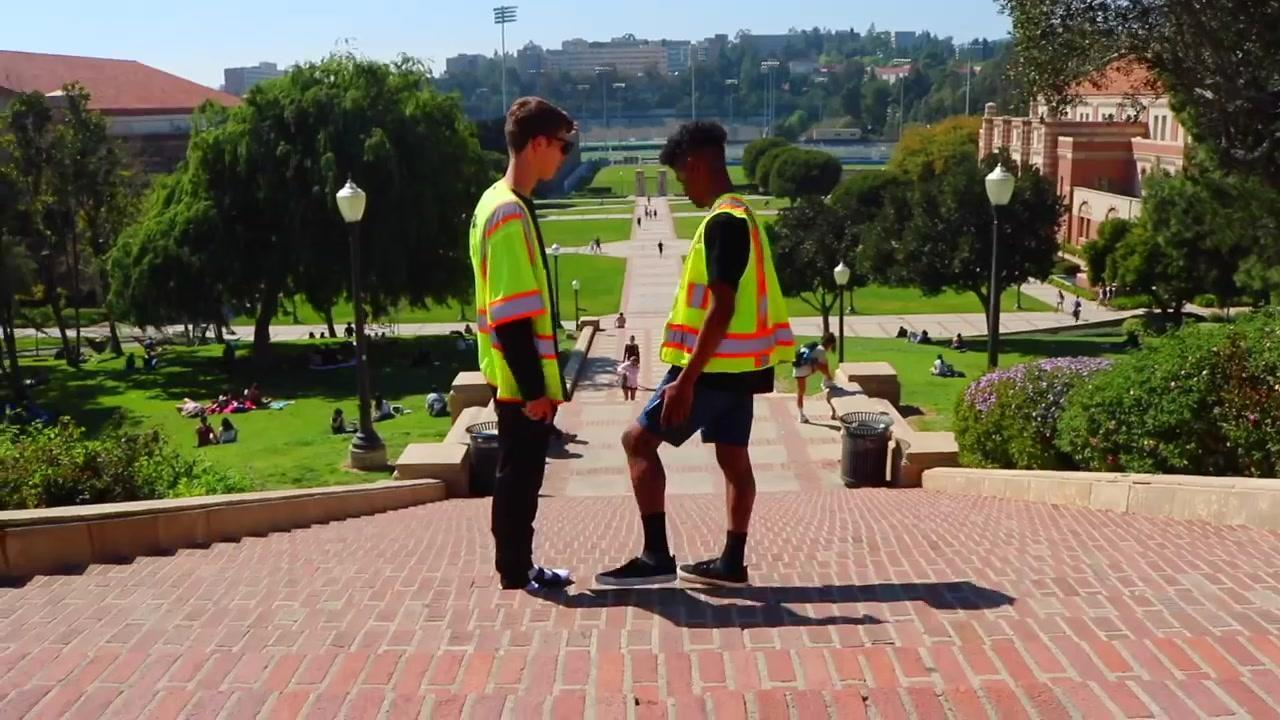vest: (462, 178, 567, 406), (668, 193, 799, 373)
